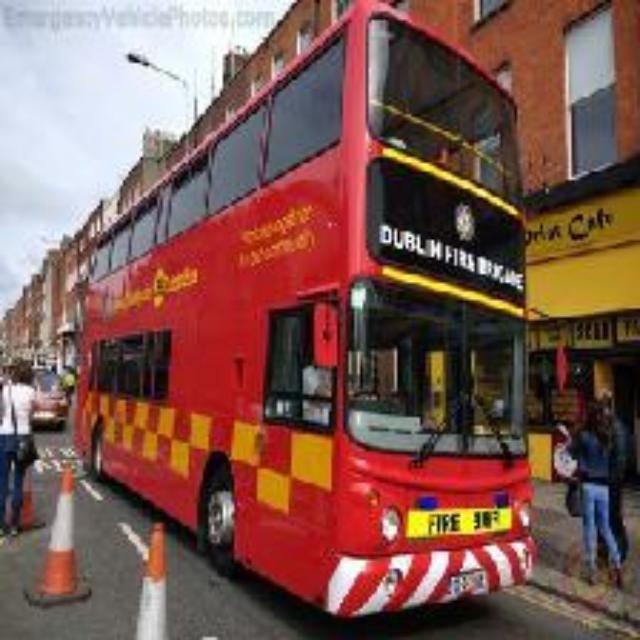emergency: (27, 87, 535, 595)
